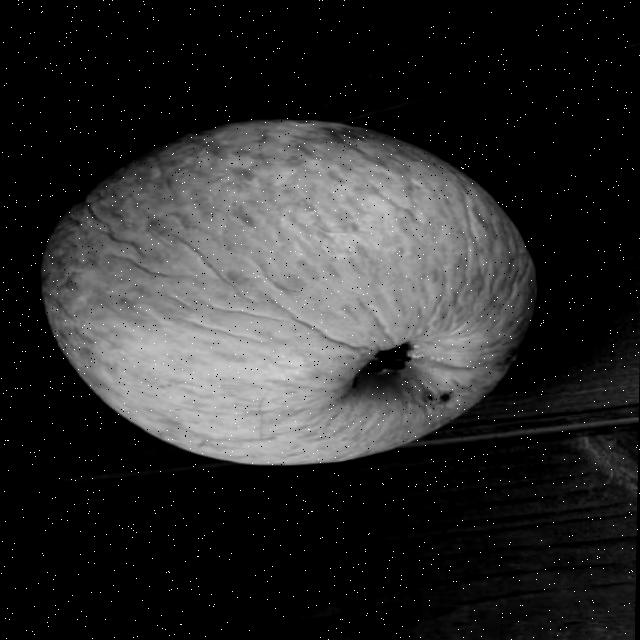overripe: (29, 108, 544, 474)
